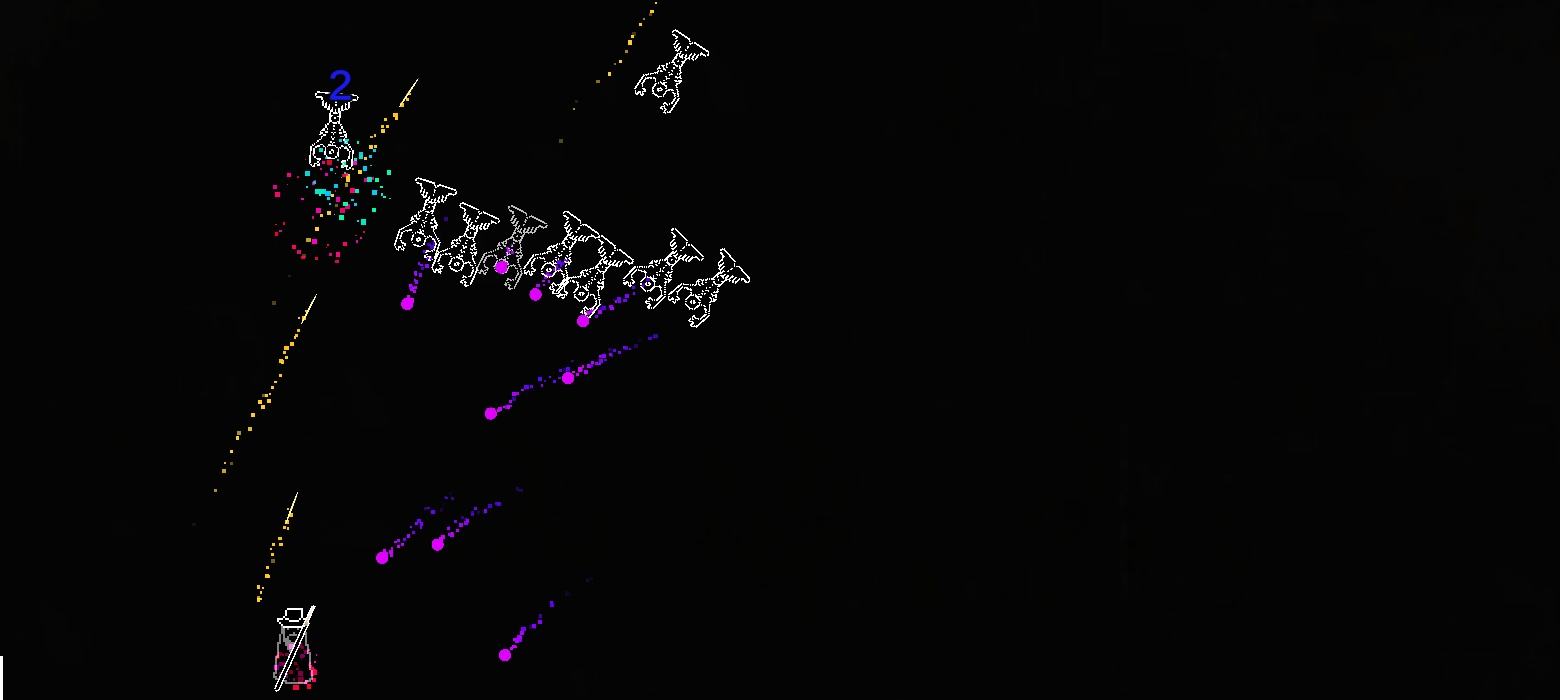enemy: (622, 227, 704, 310), (668, 246, 750, 328), (556, 234, 634, 319), (523, 209, 600, 295), (634, 28, 709, 115), (476, 205, 549, 291), (431, 201, 501, 288), (393, 177, 457, 262), (308, 90, 359, 171)
